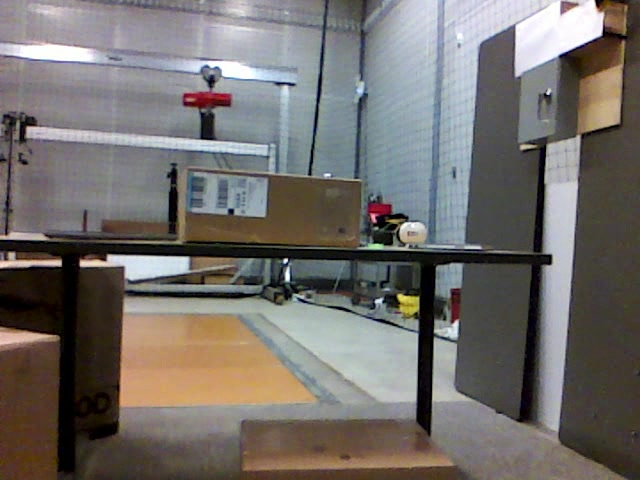box: (1, 262, 120, 437), (178, 167, 361, 245), (241, 418, 453, 480), (1, 326, 58, 480)
